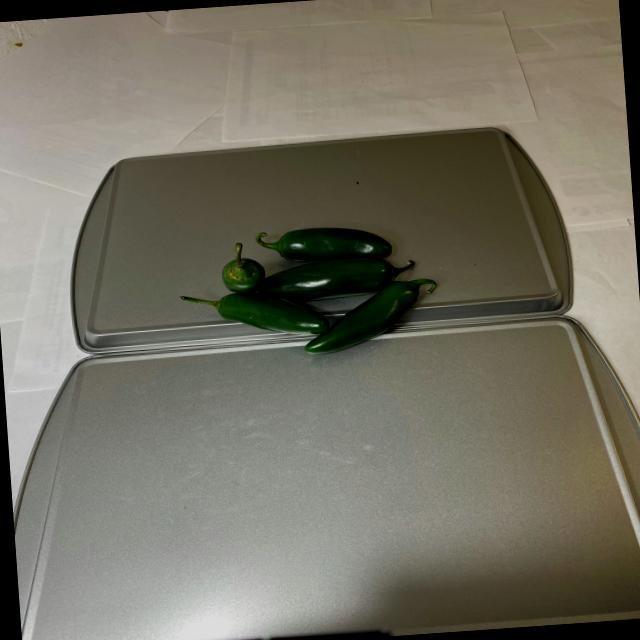chilli: (186, 219, 448, 364)
